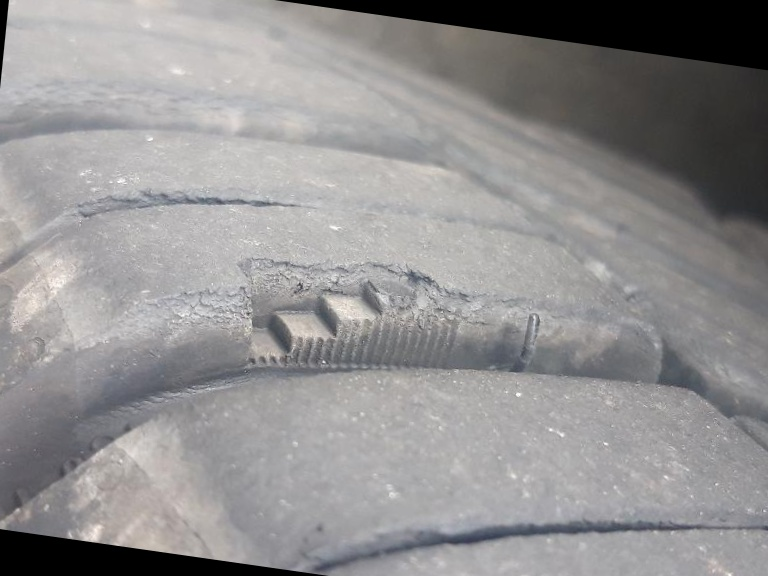temoin:80: (214, 227, 484, 410)
